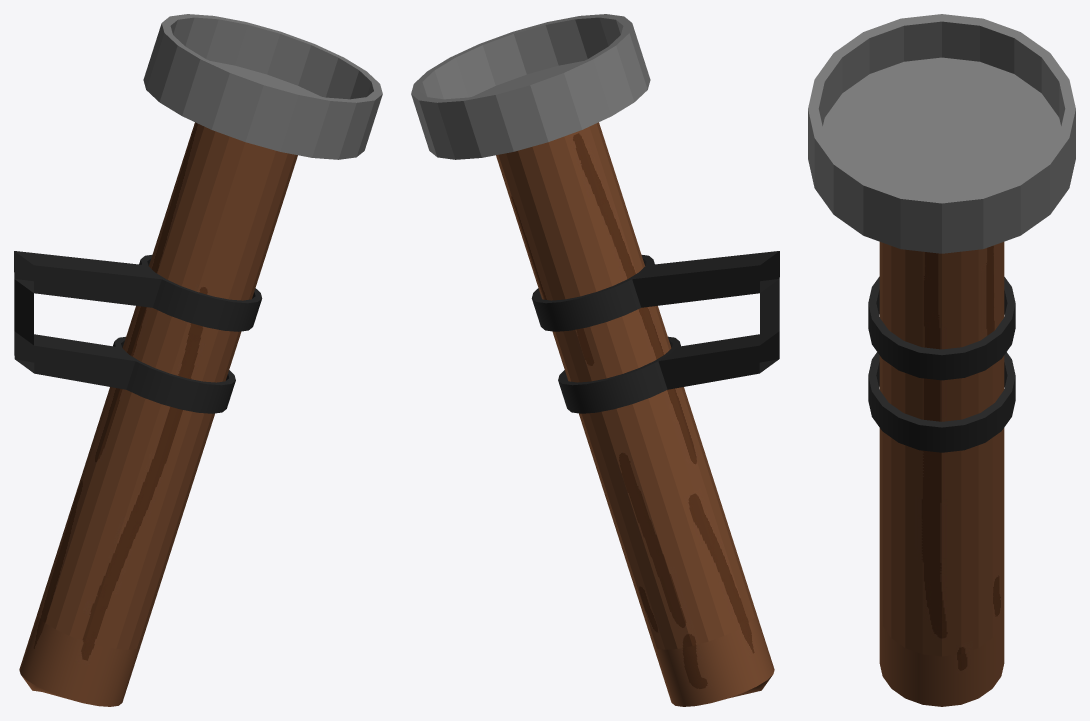
Rendered from Torch.fbx.
The picture shows the model from 3 angles, left to right: view 1: azimuth 30°, elevation 25°; view 2: azimuth 150°, elevation 25°; view 3: azimuth 270°, elevation 25°; orthographic projection. The views are drawn at different scales.
Parts seen in each view (by area): view 1: Torch1; view 2: Torch1; view 3: Torch1.
Boxes of the visible parts, x1=… form: Torch1: x1=14, y1=14, x2=382, y2=706; Torch1: x1=411, y1=14, x2=779, y2=706; Torch1: x1=808, y1=14, x2=1075, y2=706.
Size of the model in its own units: 0.128 by 0.2271 by 0.0751.
Materials: 2 (1 with a texture image).
